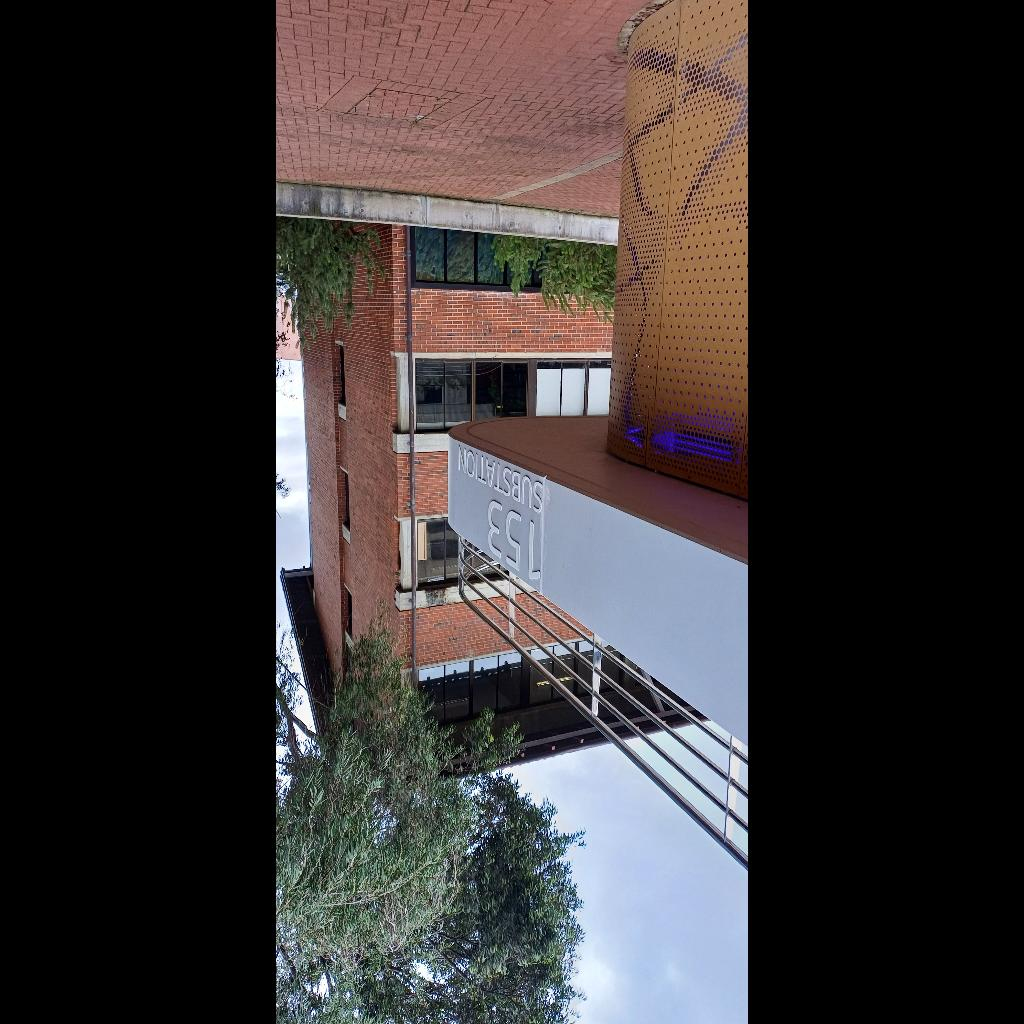BuildingCodes: (476, 496, 546, 590)
